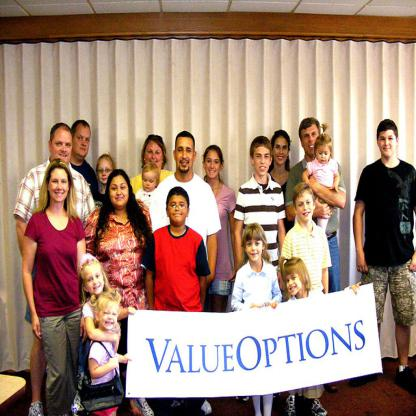face: (53, 134, 73, 167), (50, 172, 69, 202), (176, 142, 194, 172), (111, 180, 129, 206), (169, 198, 188, 222), (87, 270, 105, 295), (100, 305, 118, 330), (254, 149, 271, 175), (379, 133, 397, 157), (303, 131, 320, 156), (297, 196, 314, 221), (76, 131, 92, 157), (206, 154, 222, 178), (247, 239, 263, 262), (287, 273, 303, 296), (145, 146, 163, 166), (274, 141, 289, 164), (98, 164, 114, 184), (317, 147, 331, 164), (144, 174, 157, 191)
